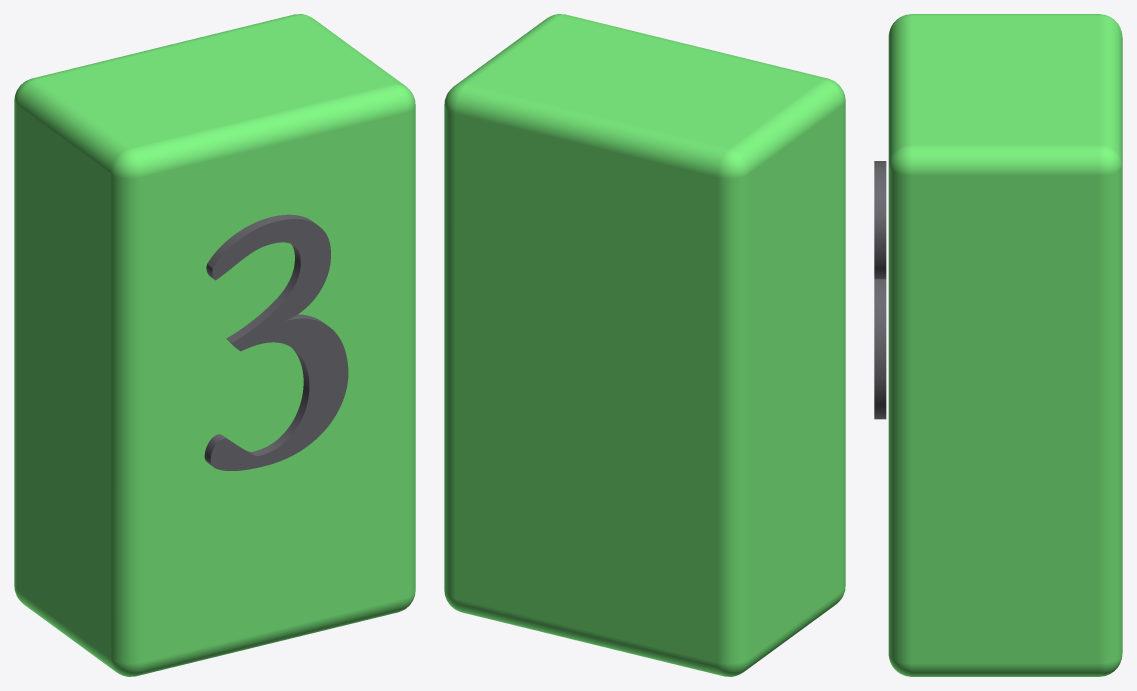
The model's file is pin_3.gltf.
3 renders of one model, left to right at view 1: azimuth 30°, elevation 25°; view 2: azimuth 150°, elevation 25°; view 3: azimuth 270°, elevation 25°, orthographic.
Parts seen in each view (by area): view 1: White, Black; view 2: White; view 3: White, Black.
Part boxes in pixels (x1,y1,x2,y2): White: [14, 14, 415, 676]; Black: [204, 214, 348, 470]; White: [444, 14, 845, 676]; White: [888, 14, 1122, 676]; Black: [874, 161, 886, 419].
Size of the model in its own units: 1.5 by 2.5 by 1.06.
